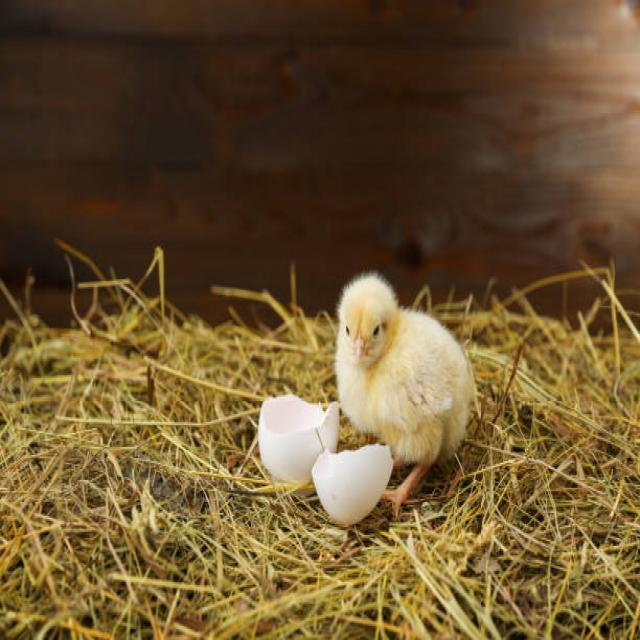Healthy: (321, 255, 490, 501)
